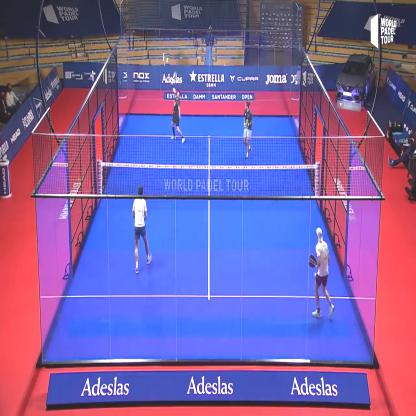ball: (164, 54, 171, 68)
